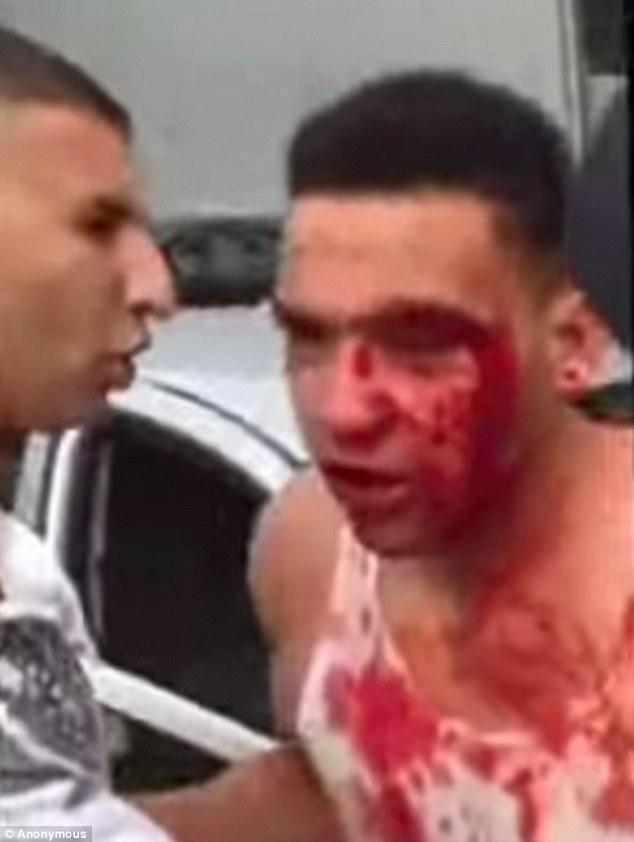Fire: (298, 609, 634, 842), (278, 302, 531, 556), (383, 580, 632, 754)
